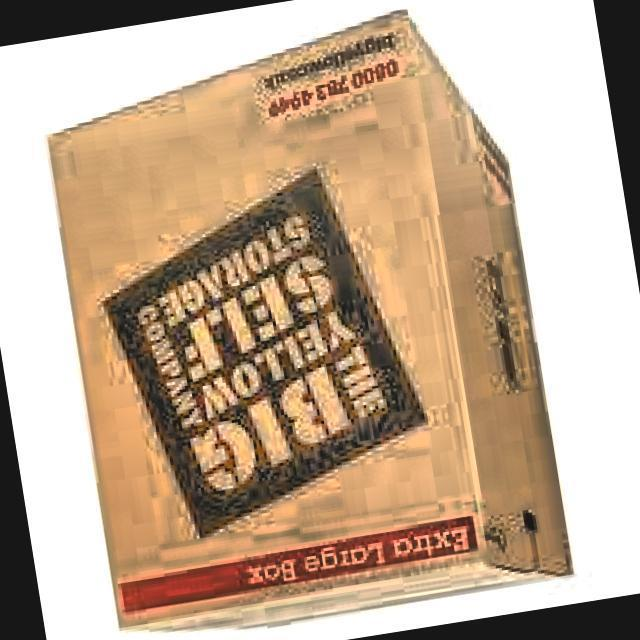cardboard: (30, 0, 578, 640)
